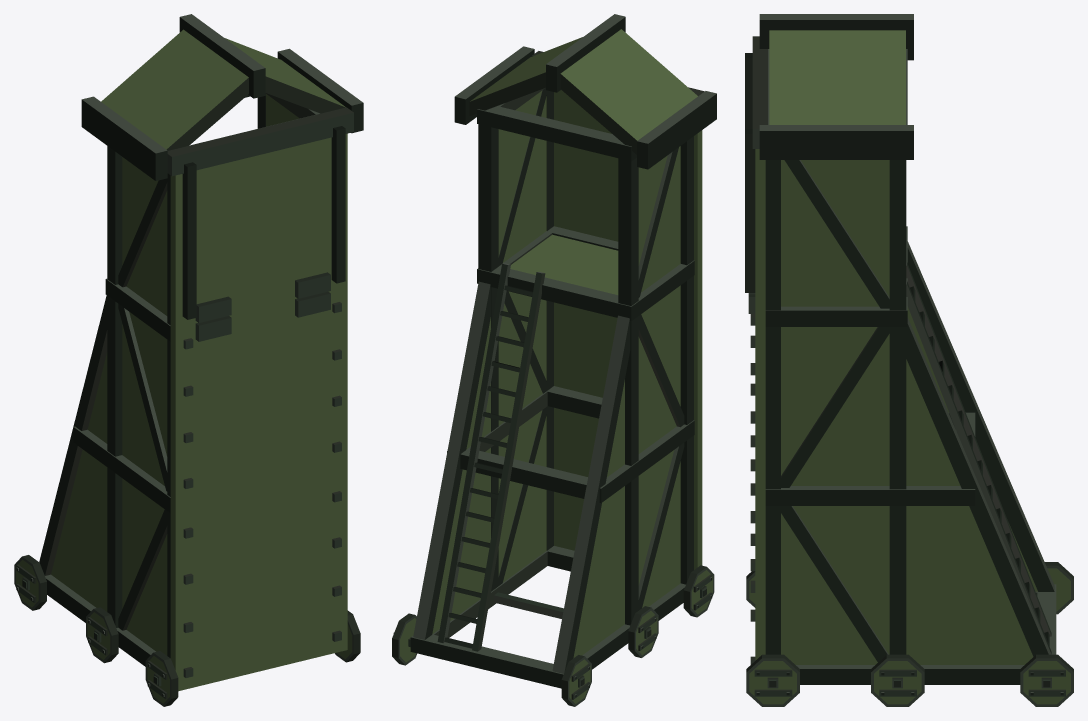
The model's file is SF_Veh_SiegeTower_01.glb.
The picture shows the model from 3 angles, left to right: view 1: azimuth 30°, elevation 25°; view 2: azimuth 150°, elevation 25°; view 3: azimuth 270°, elevation 25°; orthographic projection. The views are drawn at different scales.
Visible parts, largest first — view 1: SF_Veh_SiegeTower_01, SF_Veh_SiegeTower_Gate, SF_Veh_SiegeTower_WheelFR, SF_Veh_SiegeTower_WheelBR, SF_Veh_SiegeTower_WheelMR, SF_Veh_SiegeTower_WheelFL; view 2: SF_Veh_SiegeTower_01, SF_Veh_SiegeTower_Gate, SF_Veh_SiegeTower_WheelFR, SF_Veh_SiegeTower_WheelMR, SF_Veh_SiegeTower_WheelBR, SF_Veh_SiegeTower_WheelBL; view 3: SF_Veh_SiegeTower_01, SF_Veh_SiegeTower_Gate, SF_Veh_SiegeTower_WheelFL, SF_Veh_SiegeTower_WheelML, SF_Veh_SiegeTower_WheelBL, SF_Veh_SiegeTower_WheelBR.
Boxes of the visible parts, box(x1,y1,x2,y2) form: SF_Veh_SiegeTower_01: box(39, 14, 363, 691); SF_Veh_SiegeTower_Gate: box(167, 107, 353, 326); SF_Veh_SiegeTower_WheelFR: box(145, 651, 178, 706); SF_Veh_SiegeTower_WheelBR: box(14, 555, 46, 610); SF_Veh_SiegeTower_WheelMR: box(86, 607, 118, 663); SF_Veh_SiegeTower_WheelFL: box(335, 610, 360, 662); SF_Veh_SiegeTower_01: box(408, 14, 716, 688); SF_Veh_SiegeTower_Gate: box(532, 51, 704, 255); SF_Veh_SiegeTower_WheelFR: box(683, 565, 714, 617); SF_Veh_SiegeTower_WheelMR: box(628, 606, 658, 657); SF_Veh_SiegeTower_WheelBR: box(561, 655, 591, 706); SF_Veh_SiegeTower_WheelBL: box(392, 613, 417, 665); SF_Veh_SiegeTower_01: box(748, 14, 1056, 684); SF_Veh_SiegeTower_Gate: box(745, 36, 767, 305); SF_Veh_SiegeTower_WheelFL: box(746, 654, 799, 706); SF_Veh_SiegeTower_WheelML: box(871, 654, 924, 706); SF_Veh_SiegeTower_WheelBL: box(1020, 654, 1073, 706); SF_Veh_SiegeTower_WheelBR: box(1044, 562, 1073, 614).
Bounding box in the file's own units: 0.0564 × 0.1596 × 0.0741.
1 material, 1 textured.
